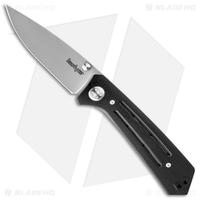knife: (3, 3, 175, 175)
